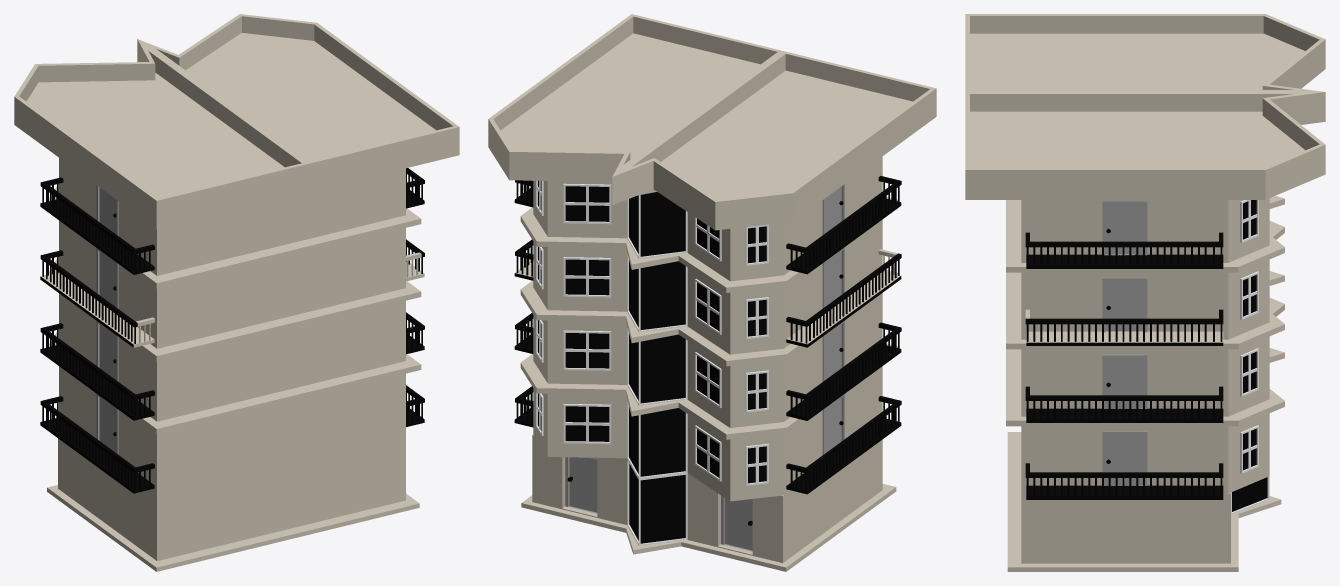
The model's file is houseappartements.fbx.
3 views of the same model, side by side, from view 1: azimuth 30°, elevation 25°; view 2: azimuth 150°, elevation 25°; view 3: azimuth 270°, elevation 25° (orthographic). The views are drawn at different scales.
Parts seen in each view (by area): view 1: houseappartements; view 2: houseappartements; view 3: houseappartements.
Part boxes in pixels (x1,y1,x2,y2): houseappartements: (14, 14, 459, 571); houseappartements: (488, 14, 936, 571); houseappartements: (965, 14, 1325, 571).
Bounding box in the file's own units: 1535 × 1891 × 1498.
